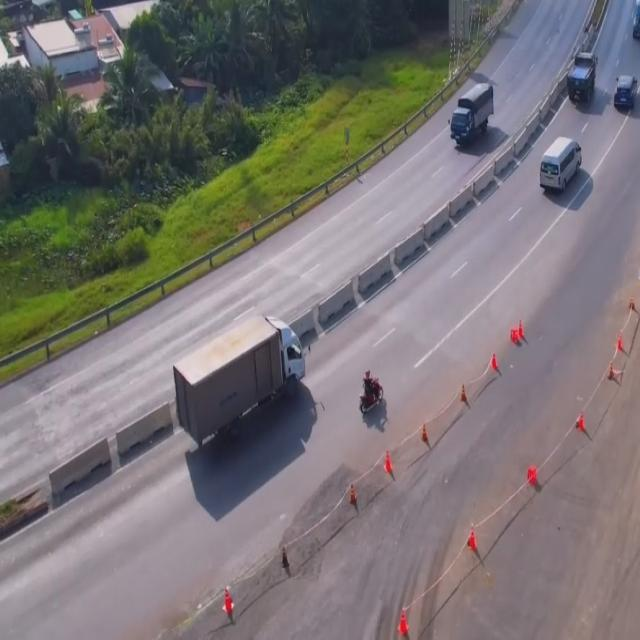car: (538, 136, 584, 196), (613, 73, 638, 114)
motorbike: (359, 372, 384, 417)
truck: (173, 314, 305, 448), (449, 80, 494, 146), (567, 52, 599, 105)
